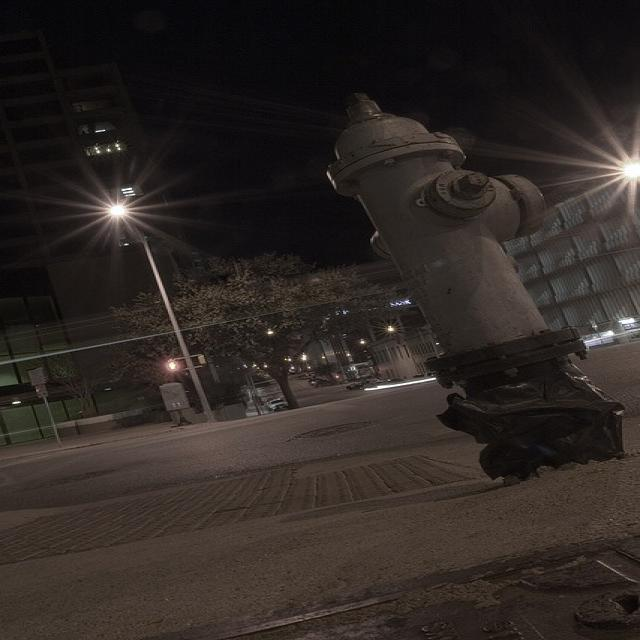car: (261, 396, 288, 411), (258, 391, 276, 401), (345, 382, 358, 388)
fire_hydrant: (322, 91, 624, 480)
pole: (136, 241, 219, 419)
